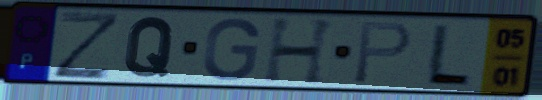G: (199, 15, 262, 83)
H: (261, 17, 341, 87)
L: (422, 22, 475, 88)
P: (350, 20, 414, 86)
Q: (121, 15, 178, 80)
Z: (50, 10, 124, 81)
